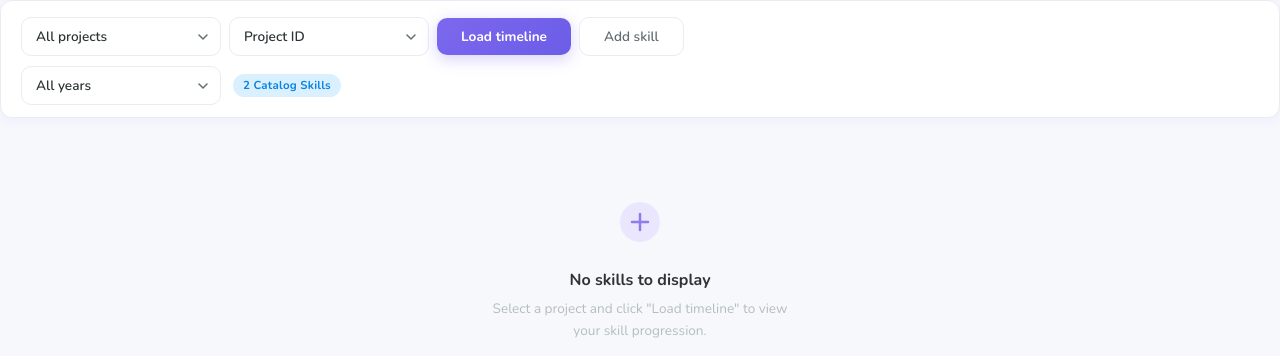
Test case: SkillsTimeline › deduplicates repeated skills and keeps the most recent event
This screenshot has width=1280, height=356.
Expected: the button "Load timeline" is enabled, [437,18,571,55]
Select "Alpha (ziphash0)" in the dropdown named "Project selector" at (121, 36), box [21,17,221,56]
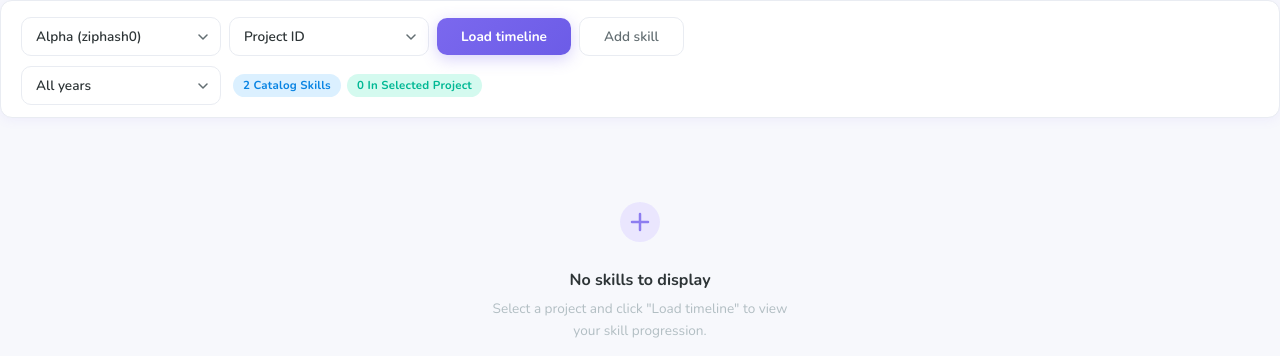
Click the button "Load timeline" at (504, 36), box [437,18,571,55]
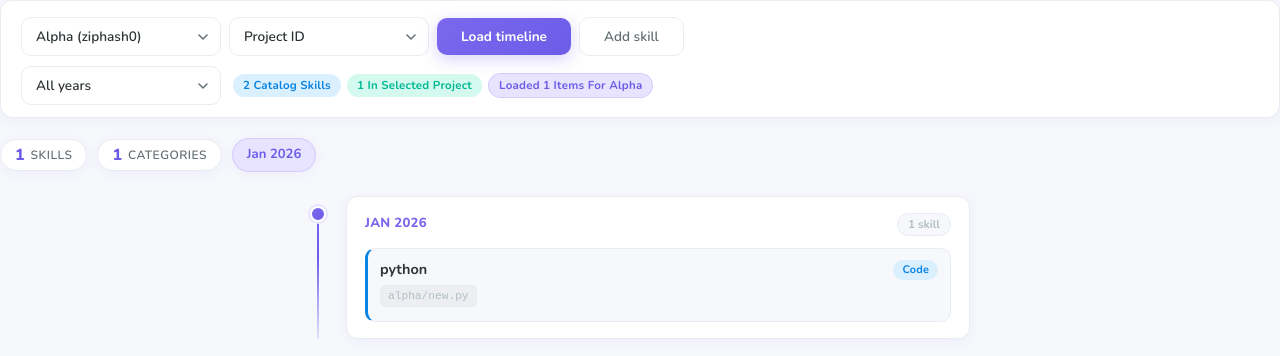
Now the number of headings "python" is 1, box [380,259,427,279]
Now the text "alpha/new.py" is shown, box [380,285,477,307]
